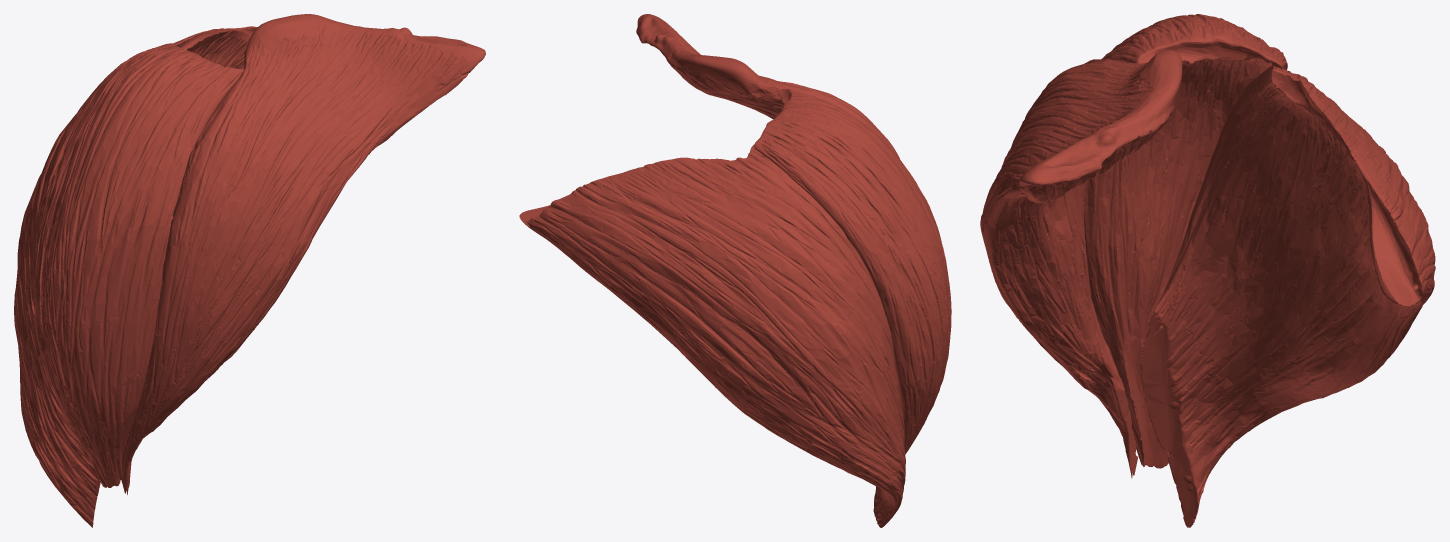
Rendered from deltoid_right.glb.
The picture shows the model from 3 angles, left to right: view 1: azimuth 30°, elevation 25°; view 2: azimuth 150°, elevation 25°; view 3: azimuth 270°, elevation 25°; orthographic projection. The views are drawn at different scales.
Size of the model in its own units: 0.1456 by 0.1675 by 0.1196.
